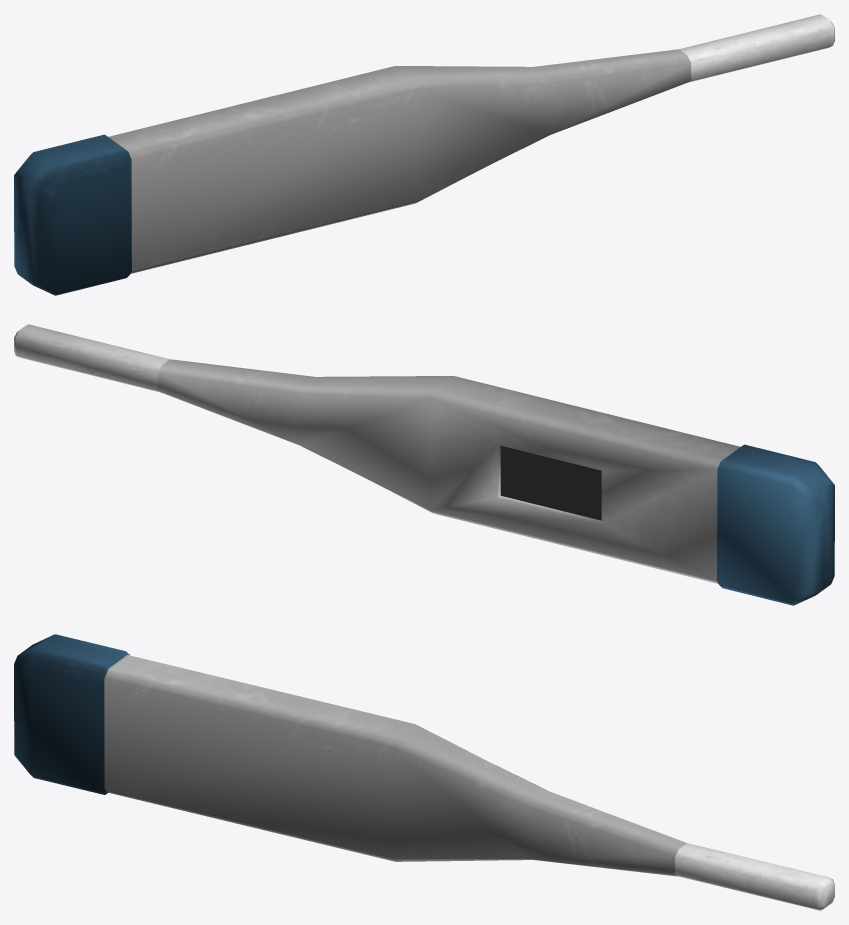
File: world_item.dae
3 views of the same model, one above another, from view 1: azimuth 30°, elevation 25°; view 2: azimuth 150°, elevation 25°; view 3: azimuth 330°, elevation 25° (orthographic).
Parts seen in each view (by area): view 1: thermometer; view 2: thermometer; view 3: thermometer.
Boxes of the visible parts, x1,y1,x2,y2 form: thermometer: (14, 14, 834, 295); thermometer: (14, 324, 834, 605); thermometer: (14, 634, 834, 910).
Size of what is drawn, in the model's own units: 0.5562 by 0.0339 by 0.0849.
2 materials, 1 textured.
